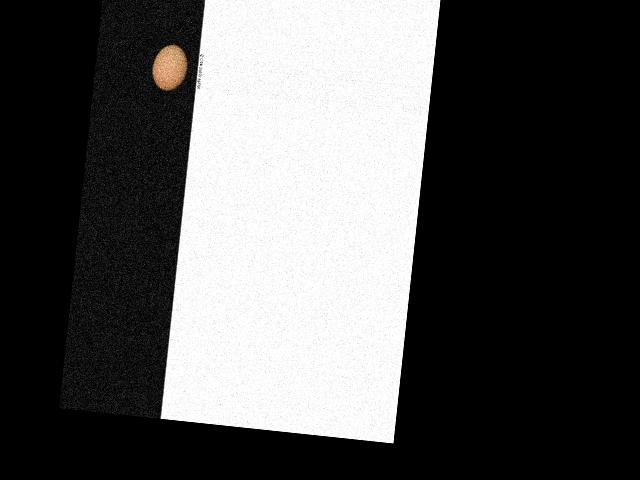egg: (150, 43, 190, 92)
